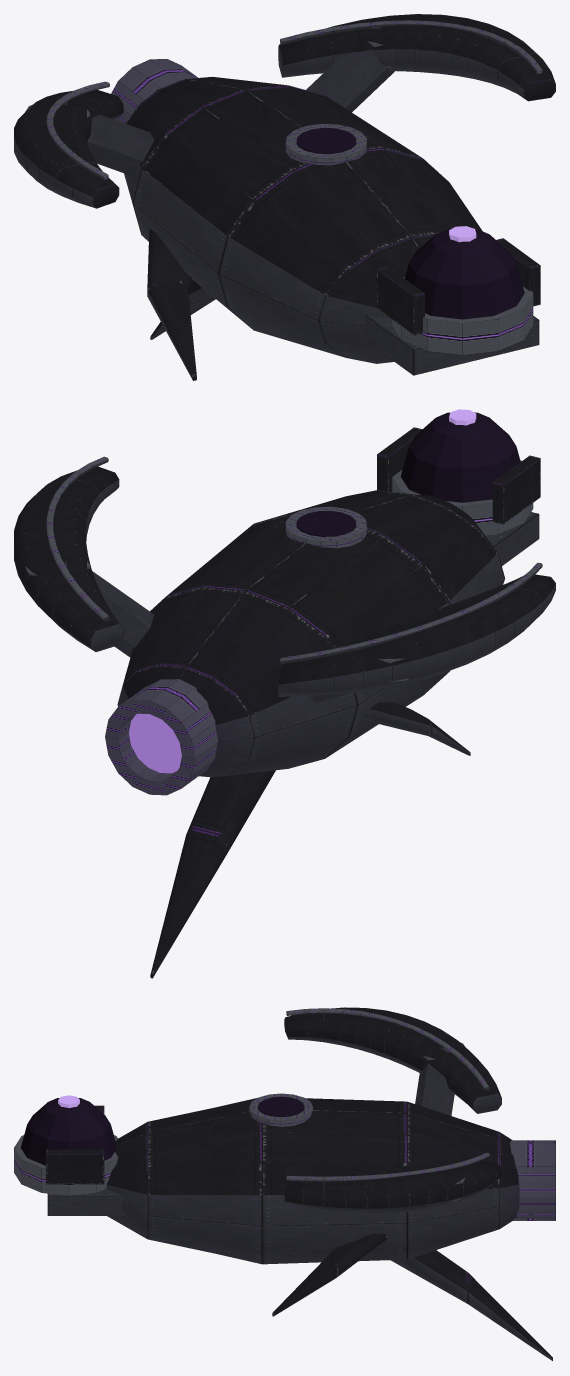
The model's file is pioneer-eris-l03-shield.glb.
3 renders of one model, top to bottom at view 1: azimuth 30°, elevation 25°; view 2: azimuth 150°, elevation 25°; view 3: azimuth 270°, elevation 25°, orthographic. The views are drawn at different scales.
Visible parts, largest first — view 1: Drone; view 2: Drone; view 3: Drone.
Boxes of the visible parts, x1,y1,x2,y2 form: Drone: (14,14,555,380); Drone: (14,409,555,978); Drone: (14,1007,555,1360).
Size of the model in its own units: 1.04 by 0.6961 by 1.28.
Materials: 3 (3 with a texture image).
